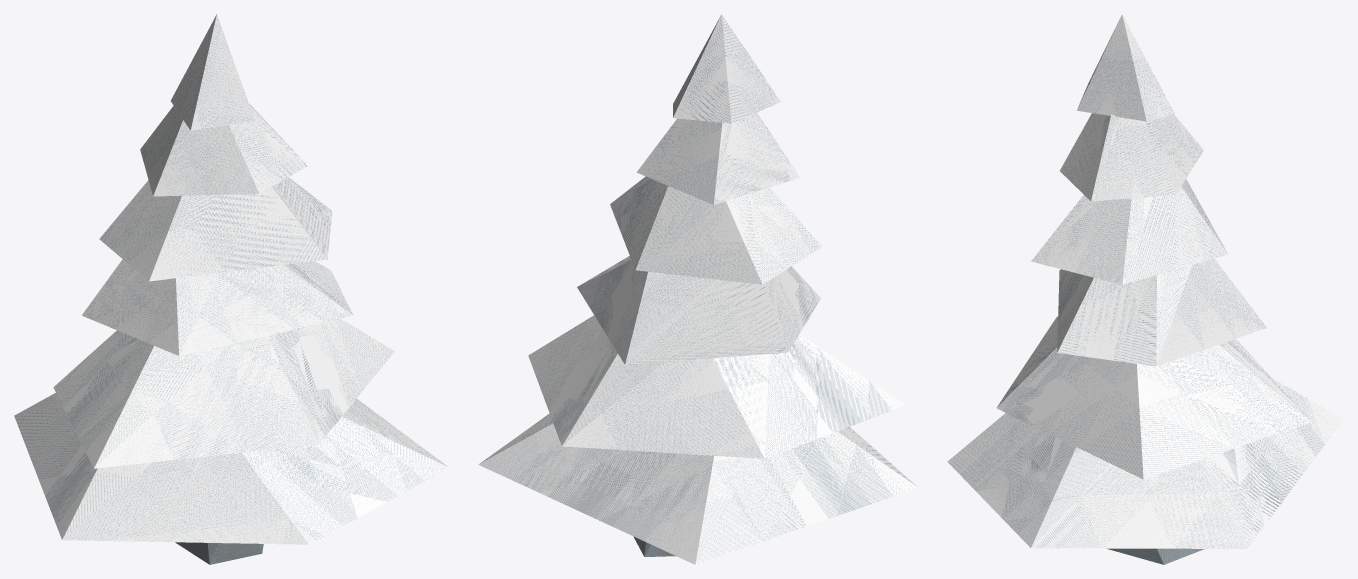
File: Tree_Pine_Snow_05.fbx
3 views of the same model, side by side, from view 1: azimuth 30°, elevation 25°; view 2: azimuth 150°, elevation 25°; view 3: azimuth 270°, elevation 25° (orthographic). The views are drawn at different scales.
Parts seen in each view (by area): view 1: Model; view 2: Model; view 3: Model.
Part boxes in pixels (<box>): Model: <box>14,14,449,564</box>; Model: <box>478,14,918,564</box>; Model: <box>947,14,1343,564</box>.
Size of the model in its own units: 1322 by 1841 by 1280.
